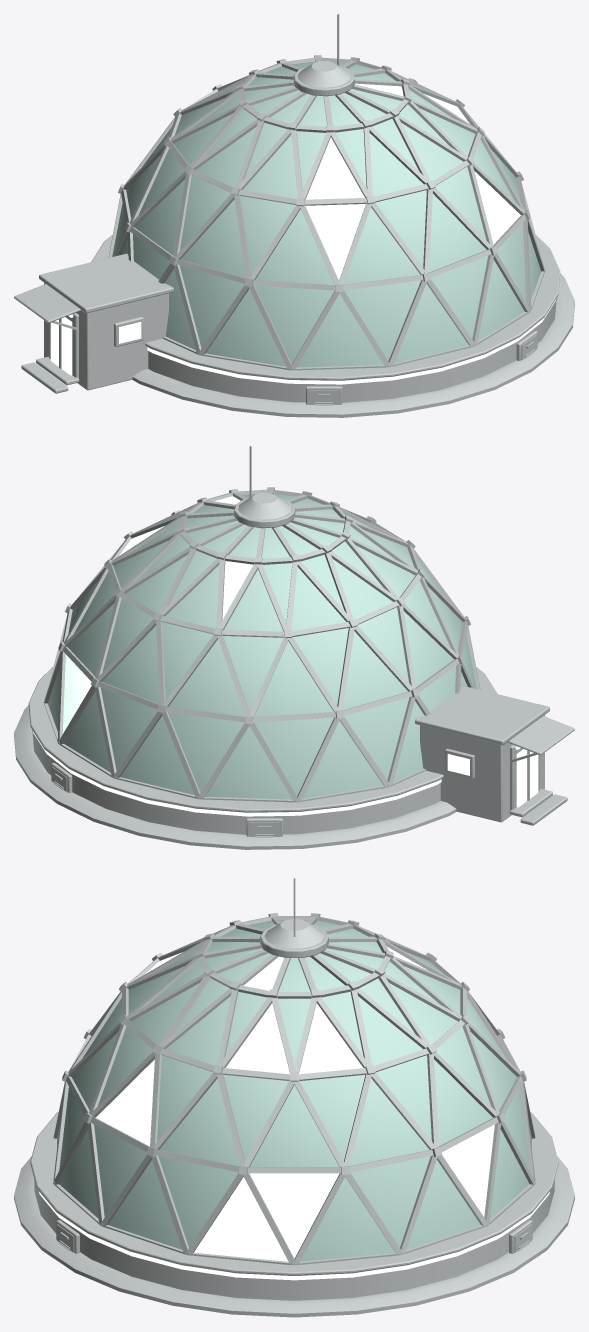
The model's file is dome.glb.
3 renders of one model, top to bottom at view 1: azimuth 30°, elevation 25°; view 2: azimuth 150°, elevation 25°; view 3: azimuth 270°, elevation 25°, orthographic. The views are drawn at different scales.
Parts seen in each view (by area): view 1: dome; view 2: dome; view 3: dome.
Part boxes in pixels (bbox=[...]): dome: bbox=[14, 14, 574, 417]; dome: bbox=[14, 446, 574, 849]; dome: bbox=[14, 878, 574, 1317].
Bounding box in the file's own units: 16.2 × 8.9 × 13.8.
